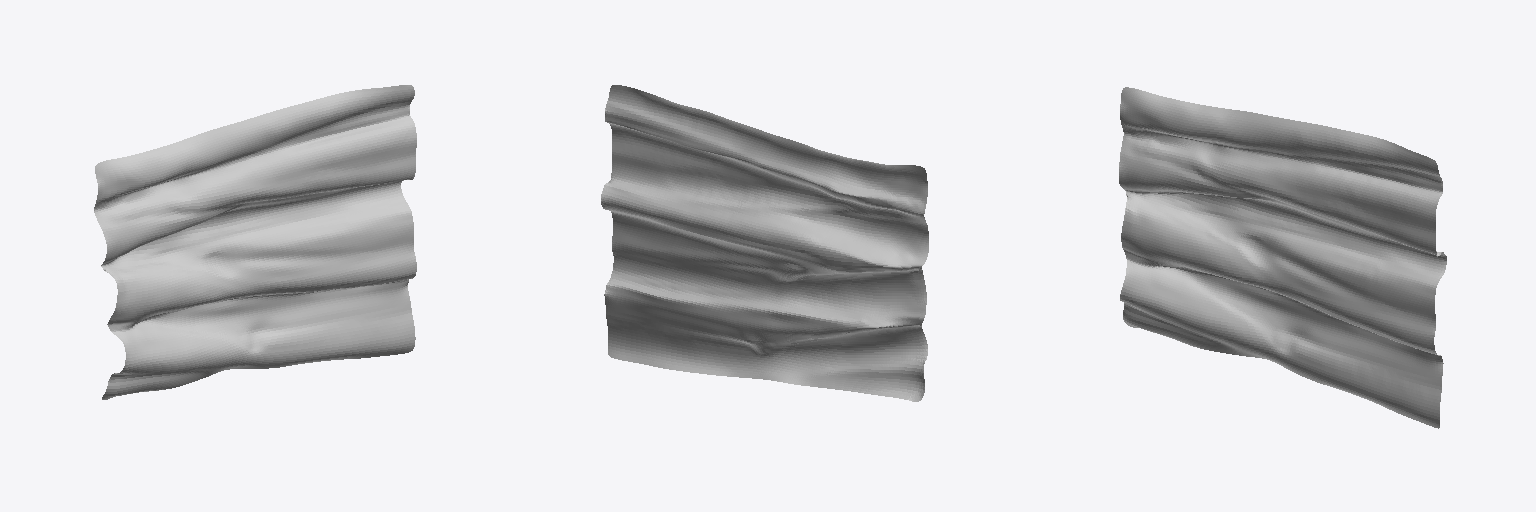
File: SM_Curtain_02_HighPoly_02.OBJ
3 views of the same model, side by side, from view 1: azimuth 30°, elevation 25°; view 2: azimuth 150°, elevation 25°; view 3: azimuth 330°, elevation 25° (orthographic).
Visible parts, largest first — view 1: Group20824; view 2: Group20824; view 3: Group20824.
Part boxes in pixels (x1,y1,x2,y2): Group20824: (94,85,416,399); Group20824: (601,85,928,401); Group20824: (1119,87,1446,428).
Size of the model in its own units: 2.74 by 2.25 by 0.4184.